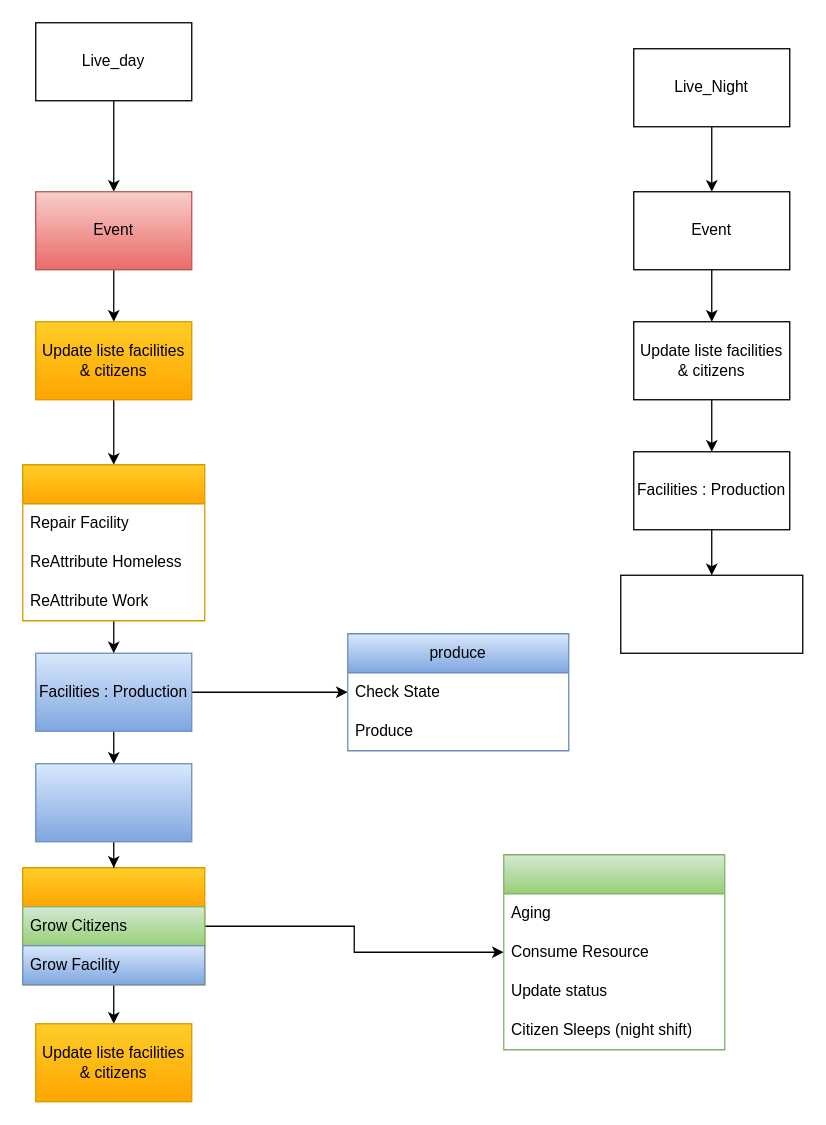
This 826x1125 diagram has some shape labels left out. Here are the shapes that lost their labels. From the top down, the box of each, then its label:
(21, 463, 205, 621): TownShip
(619, 574, 803, 653): Citizen Sleeps (day shift)
(34, 762, 192, 842): Citizen : Leisure
(21, 866, 205, 985): Grow City
(502, 853, 725, 1050): Grow Citizen
